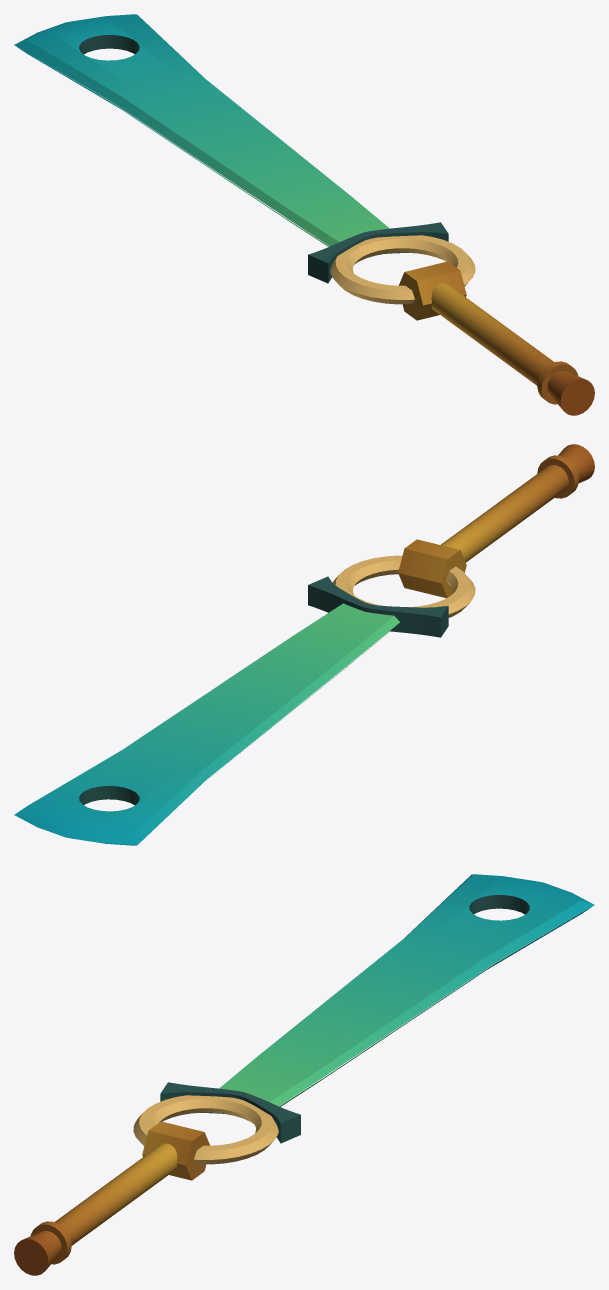
File: mystical-weapon-by-maverickfx-4x6kXTt6ZL.glb
3 views of the same model, one above another, from view 1: azimuth 30°, elevation 25°; view 2: azimuth 150°, elevation 25°; view 3: azimuth 330°, elevation 25° (orthographic).
Visible parts, largest first — view 1: Cube; view 2: Cube; view 3: Cube.
Part boxes in pixels (left/top/right/bottom): Cube: left=14, top=14, right=594, bottom=415; Cube: left=14, top=444, right=594, bottom=845; Cube: left=14, top=874, right=594, bottom=1275.
Bounding box in the file's own units: 0.8561 × 0.243 × 5.71.
1 material, 1 textured.
